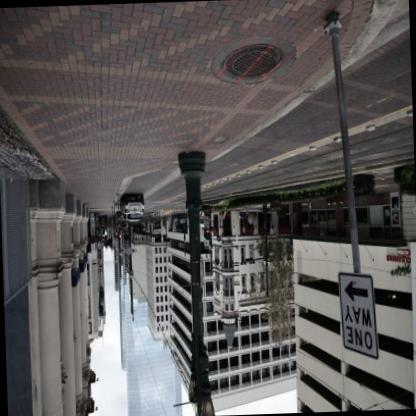manholes: (206, 14, 309, 110)
